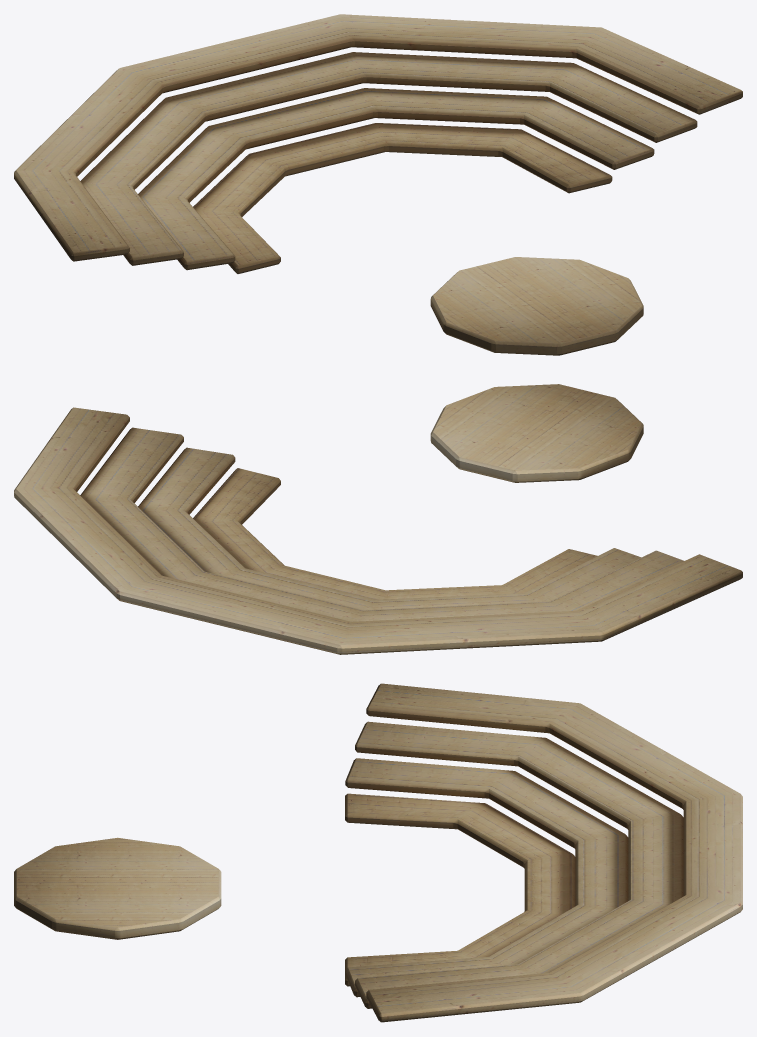
Rendered from seats.glb.
3 views of the same model, one above another, from view 1: azimuth 30°, elevation 25°; view 2: azimuth 150°, elevation 25°; view 3: azimuth 270°, elevation 25° (orthographic).
Visible parts, largest first — view 1: Cylinder.002-baked; view 2: Cylinder.002-baked; view 3: Cylinder.002-baked.
Part boxes in pixels (box(x1,y1,x2,y2)): Cylinder.002-baked: box(14, 14, 742, 355); Cylinder.002-baked: box(14, 384, 742, 654); Cylinder.002-baked: box(14, 683, 742, 1022).
Bounding box in the file's own units: 28.83 × 1.9 × 26.73.
1 material, 1 textured.
